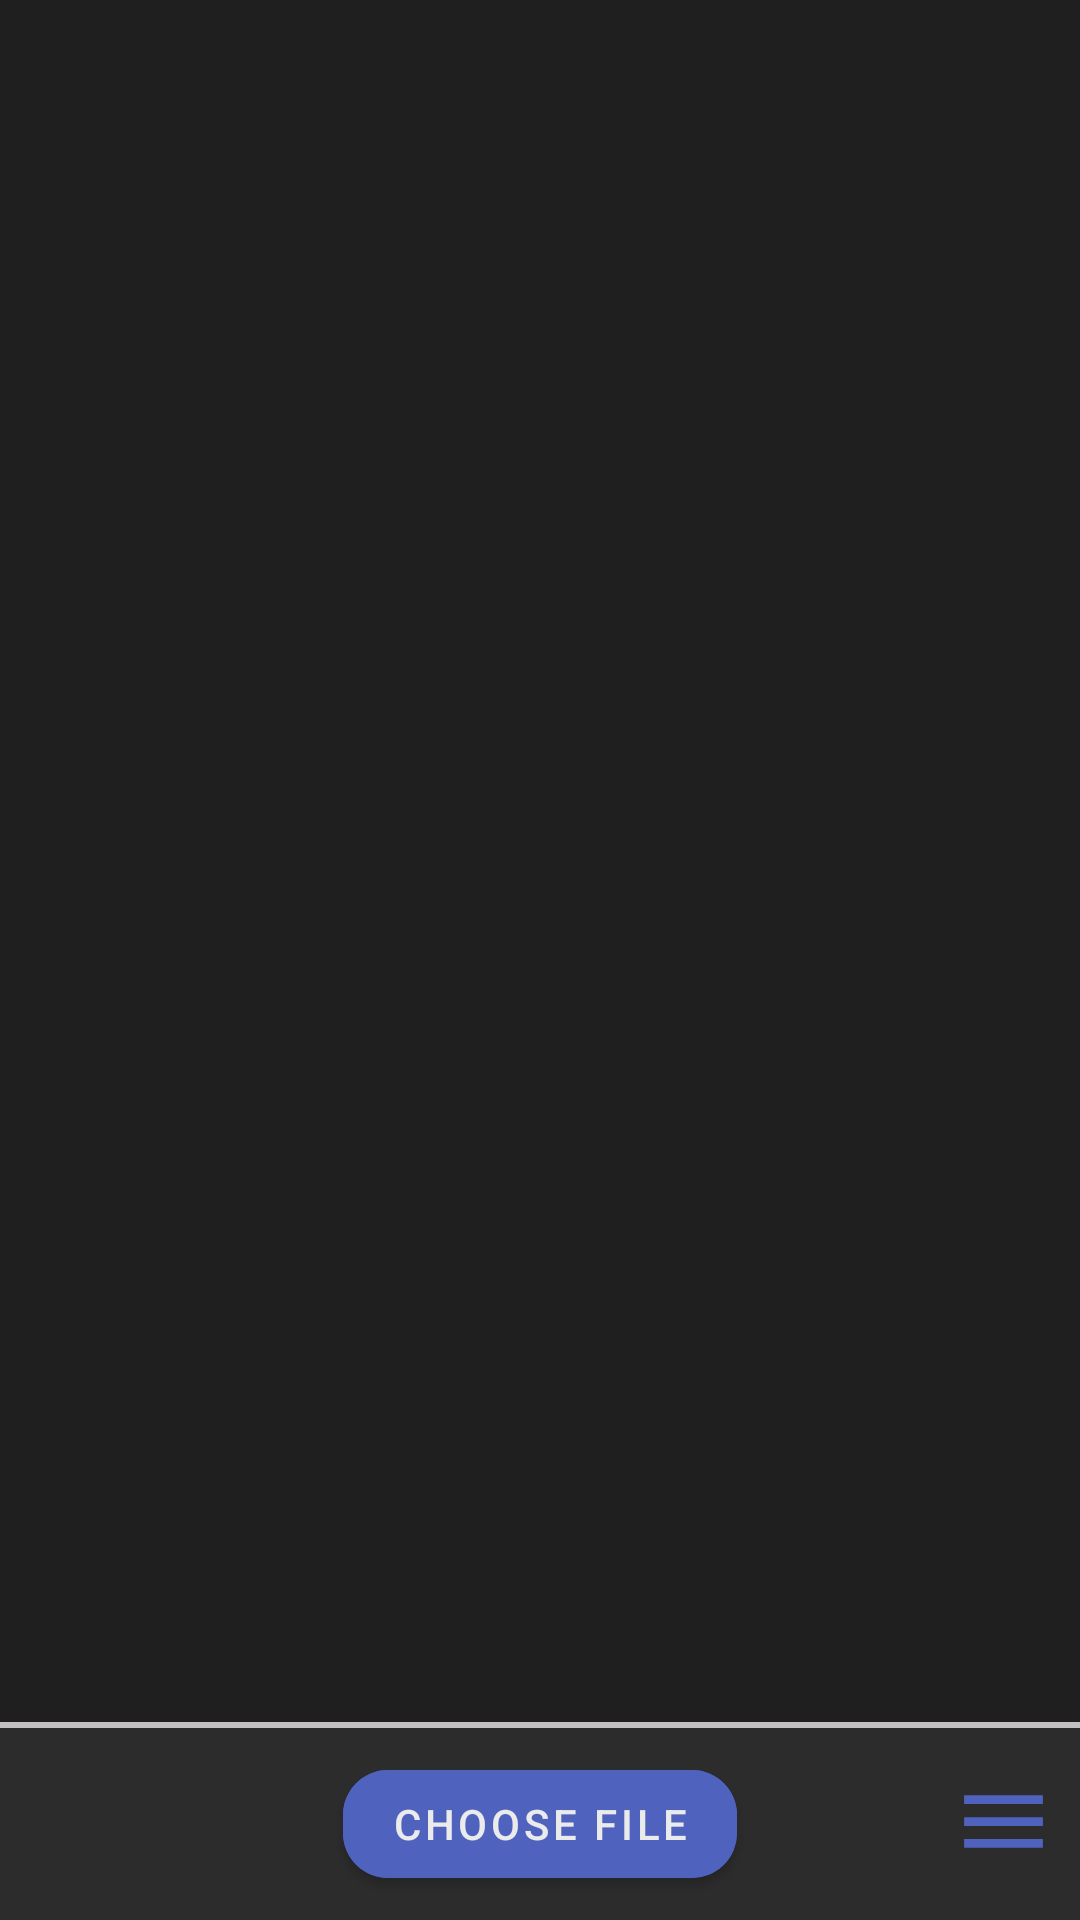

Locate icon controls on the screen. Image size 1080px×1920px, boxes as bbox=(x1, y1, x2, y2).
menu: bbox=(964, 1795, 1043, 1848)
